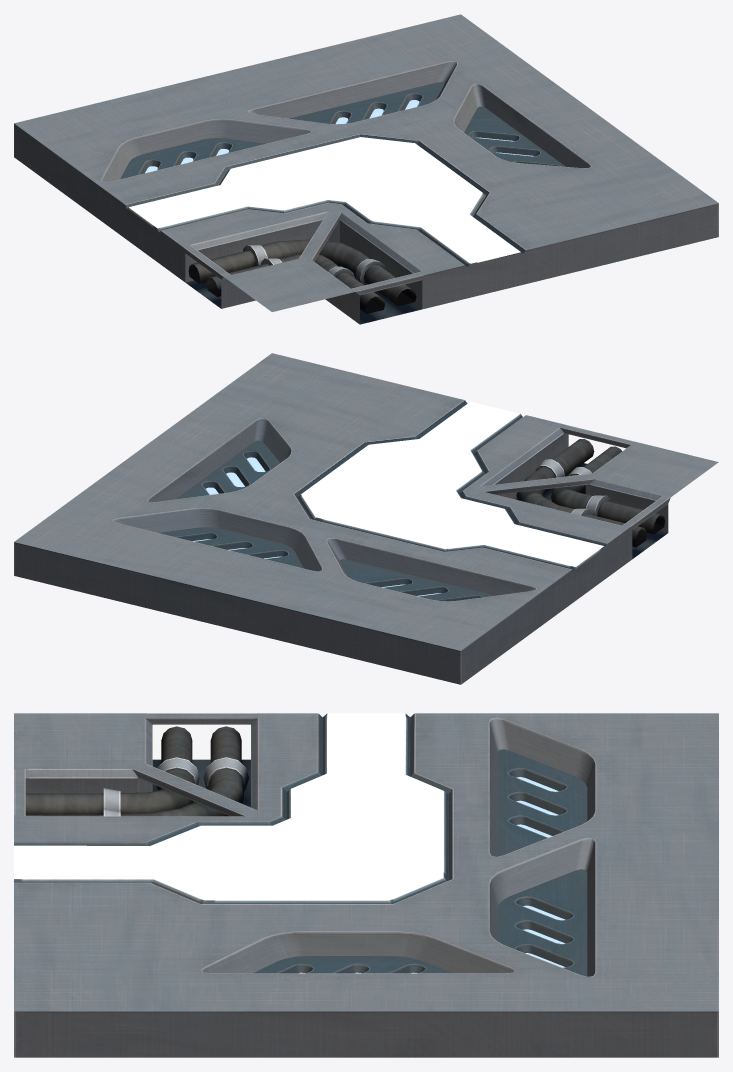
The model's file is DS_SM0010_Scifi_Room_FloorPipeCorner.fbx.
The picture shows the model from 3 angles, top to bottom: view 1: azimuth 30°, elevation 25°; view 2: azimuth 150°, elevation 25°; view 3: azimuth 270°, elevation 25°; orthographic projection. The views are drawn at different scales.
Visible parts, largest first — view 1: DS_SM0010_Scifi_Room_FloorPipeCorner_01_LP; view 2: DS_SM0010_Scifi_Room_FloorPipeCorner_01_LP; view 3: DS_SM0010_Scifi_Room_FloorPipeCorner_01_LP.
Part boxes in pixels (x1,y1,x2,y2): DS_SM0010_Scifi_Room_FloorPipeCorner_01_LP: (14, 14, 718, 324); DS_SM0010_Scifi_Room_FloorPipeCorner_01_LP: (14, 353, 718, 684); DS_SM0010_Scifi_Room_FloorPipeCorner_01_LP: (14, 713, 718, 1057).
Size of the model in its own units: 400 by 28.95 by 400.
